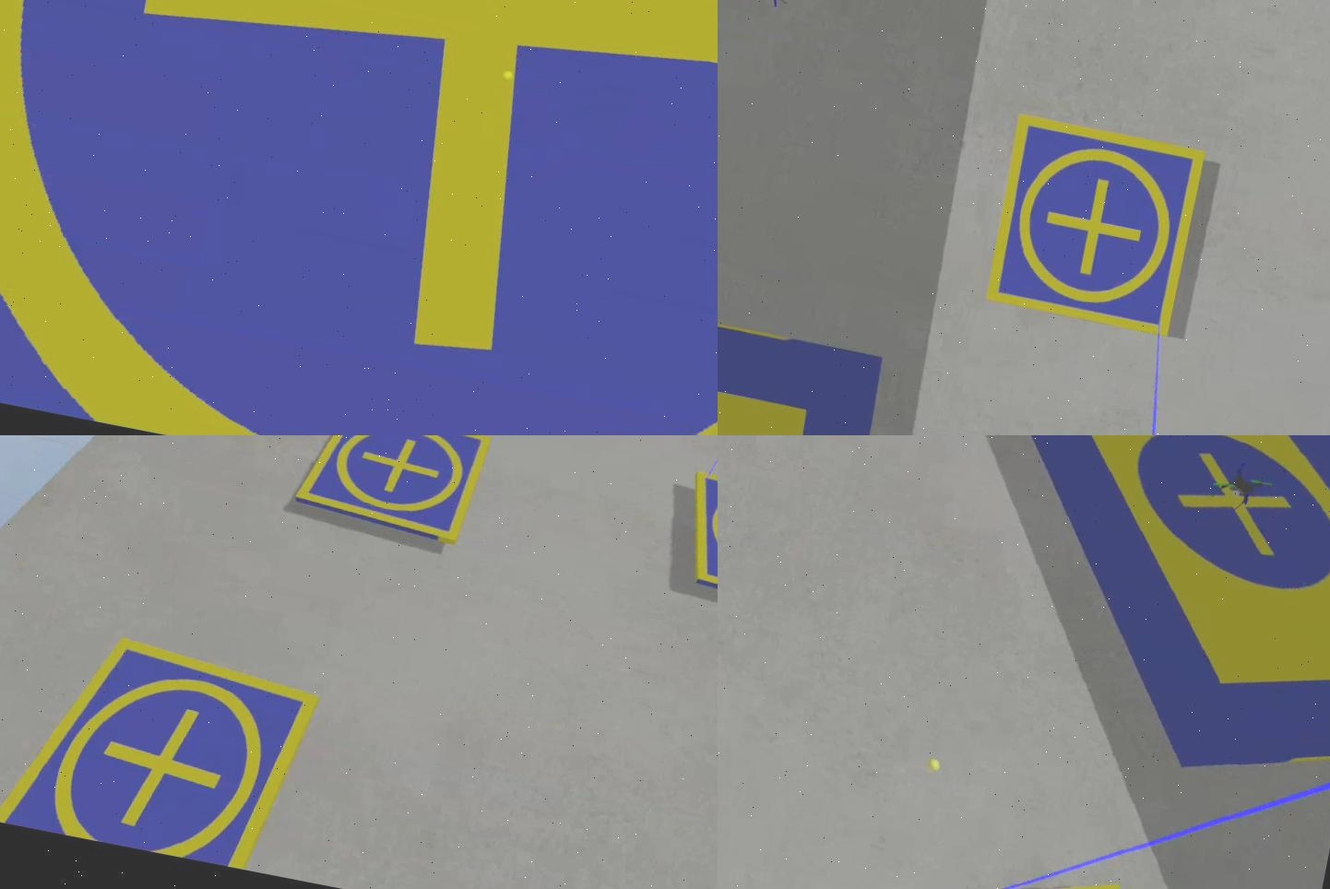large_base: (915, 435, 1330, 798)
small_base: (1, 1, 718, 435), (1, 620, 325, 880), (977, 110, 1215, 343), (290, 435, 493, 550), (853, 835, 1205, 889), (671, 468, 718, 632)
